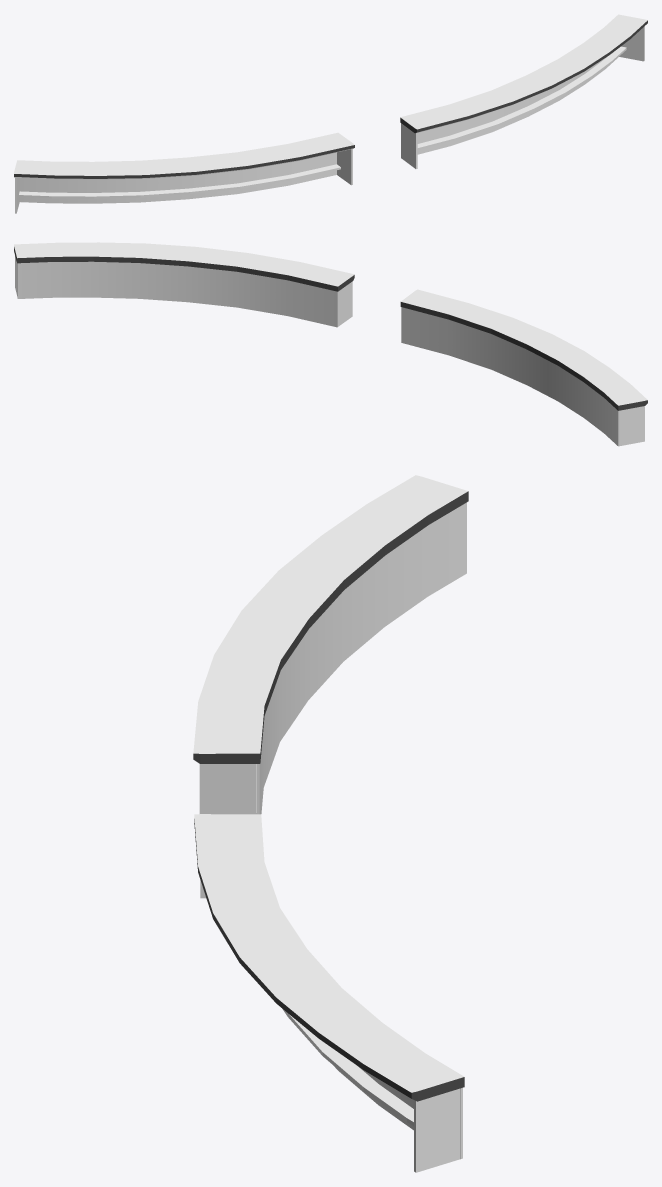
Rendered from studentdesk2.fbx.
The picture shows the model from 3 angles, top to bottom: view 1: azimuth 30°, elevation 25°; view 2: azimuth 150°, elevation 25°; view 3: azimuth 270°, elevation 25°; orthographic projection. The views are drawn at different scales.
Visible parts, largest first — view 1: studentdesk2; view 2: studentdesk2; view 3: studentdesk2.
Boxes of the visible parts, x1,y1,x2,y2 form: studentdesk2: [14, 14, 647, 213]; studentdesk2: [14, 242, 647, 446]; studentdesk2: [193, 475, 468, 1172].
Size of the model in its own units: 1582 by 97.87 by 298.
Materials: 1 (1 with a texture image).
